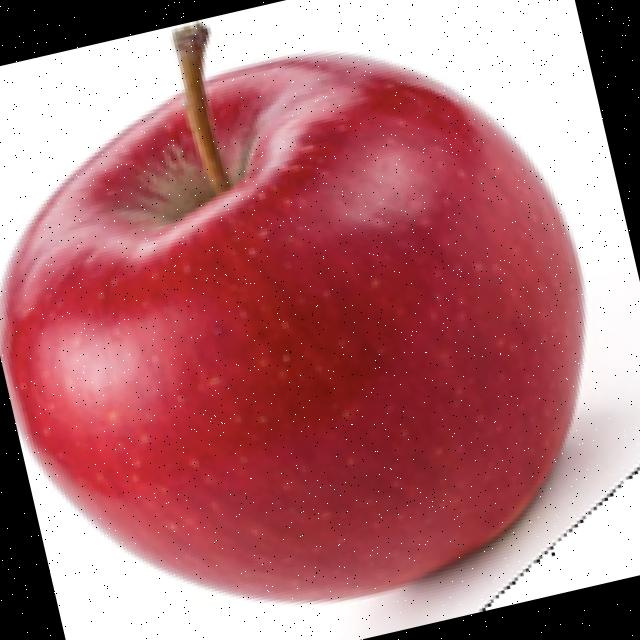apple: (0, 18, 640, 629)
